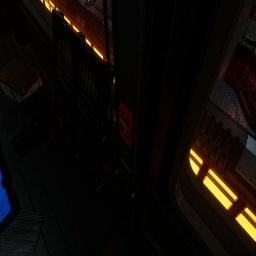FireAlarm ,: (119, 101, 133, 147)
